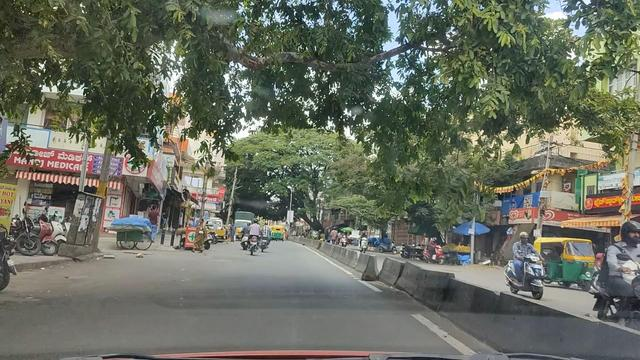RoadDamages: (2, 279, 61, 315)
